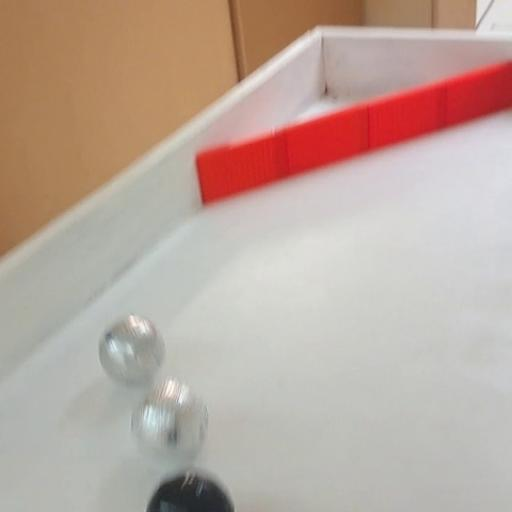alive: (133, 378, 212, 462), (99, 314, 167, 387)
dead: (150, 470, 236, 512)
